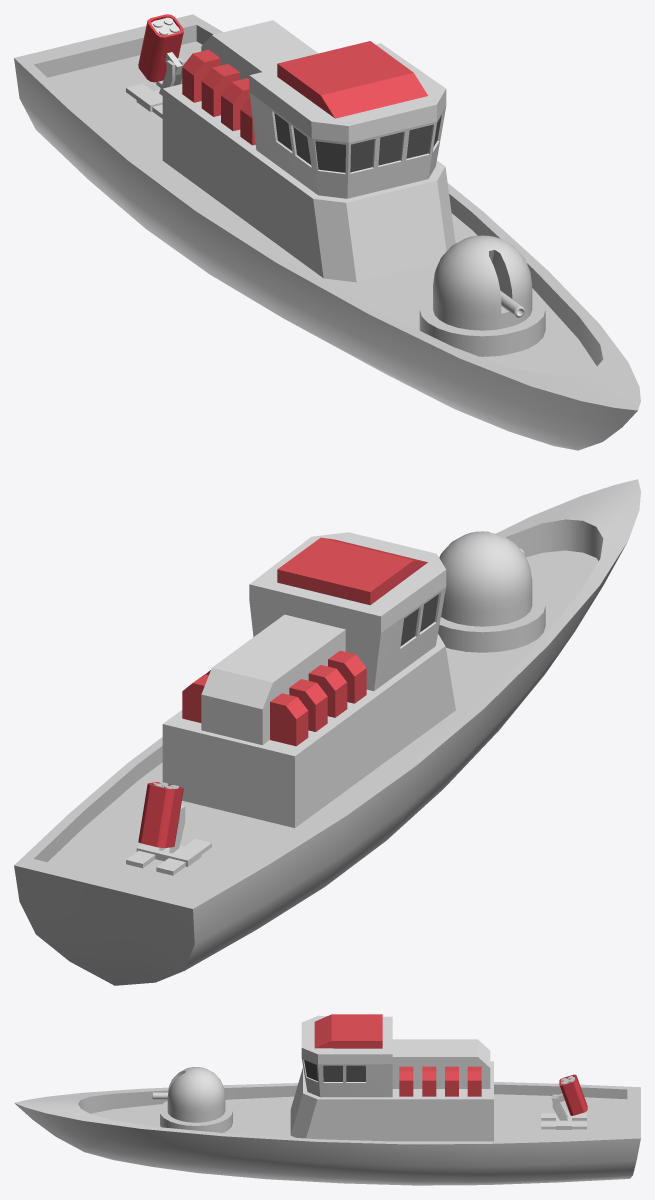
File: AttackCraft.fbx
3 renders of one model, top to bottom at view 1: azimuth 30°, elevation 25°; view 2: azimuth 150°, elevation 25°; view 3: azimuth 270°, elevation 25°, orthographic. The views are drawn at different scales.
Parts seen in each view (by area): view 1: Boat Hull, Cube, Sphere, Cube.001, Mortar; view 2: Boat Hull, Cube, Sphere, Mortar, Cube.001; view 3: Boat Hull, Cube, Sphere, Mortar, Cube.001.
Boxes of the visible parts, x1,y1,x2,y2 form: Boat Hull: (14, 14, 640, 450); Cube: (162, 20, 455, 282); Sphere: (433, 235, 532, 330); Cube.001: (419, 294, 545, 356); Mortar: (126, 14, 185, 118); Boat Hull: (14, 479, 640, 985); Cube: (162, 532, 455, 827); Sphere: (439, 531, 532, 626); Mortar: (126, 782, 211, 875); Cube.001: (438, 590, 545, 652); Boat Hull: (14, 1082, 640, 1185); Cube: (290, 1014, 493, 1141); Sphere: (167, 1067, 225, 1122); Mortar: (541, 1074, 587, 1129); Cube.001: (160, 1101, 232, 1132).
Bounding box in the file's own units: 6.56 × 7.42 × 27.53.
